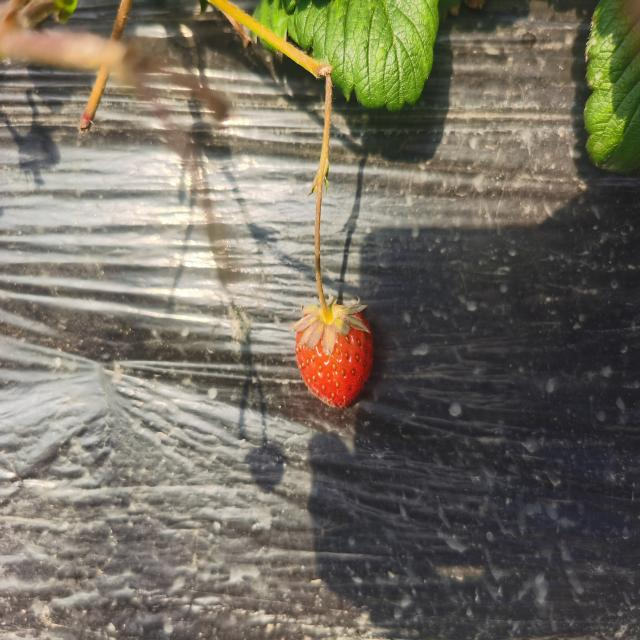stem: (315, 247, 334, 325)
strawberry: (296, 304, 373, 408)
